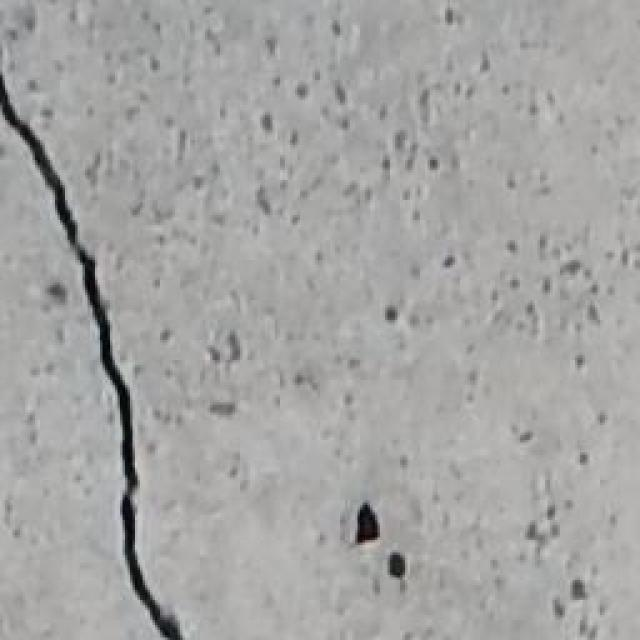concrete-crack: (0, 70, 185, 640)
